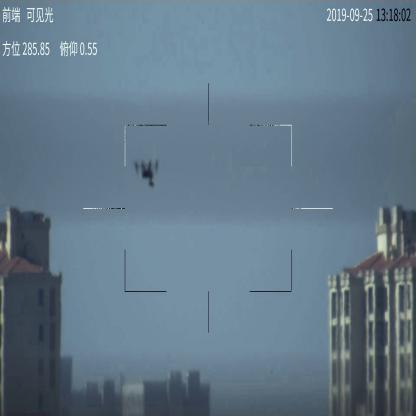uav: (136, 156, 160, 188)
